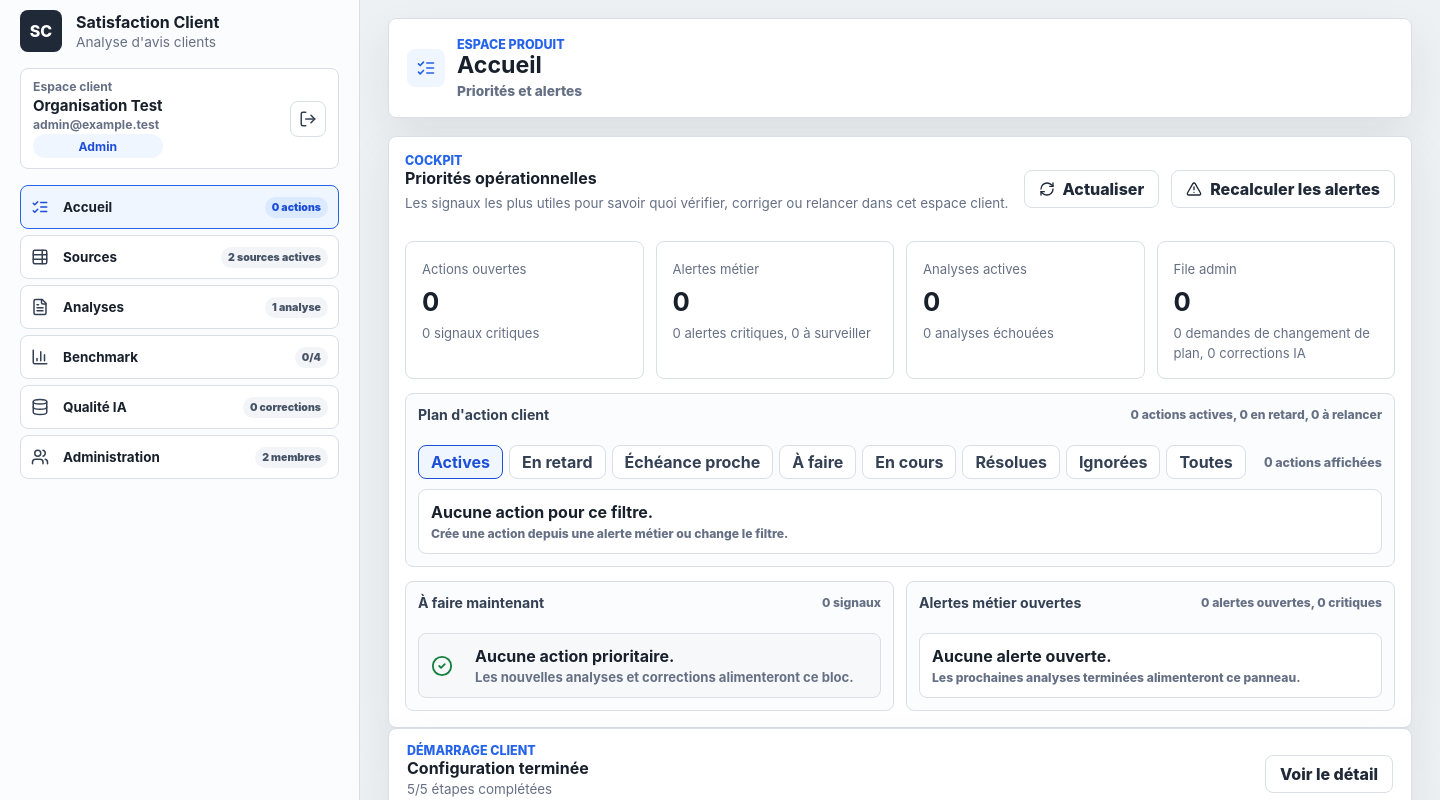
it: App authentication and permissions › shows completed onboarding compactly, then opens and closes its actions
Check: the text "Configuration terminée" is shown, box x1=407 y1=758 x2=589 y2=778
Check: the text "5/5 étapes complétées" is shown, box x1=407 y1=781 x2=552 y2=797
Click the button "Voir le détail". click: (1329, 774)
box: x1=1265 y1=755 x2=1393 y2=793
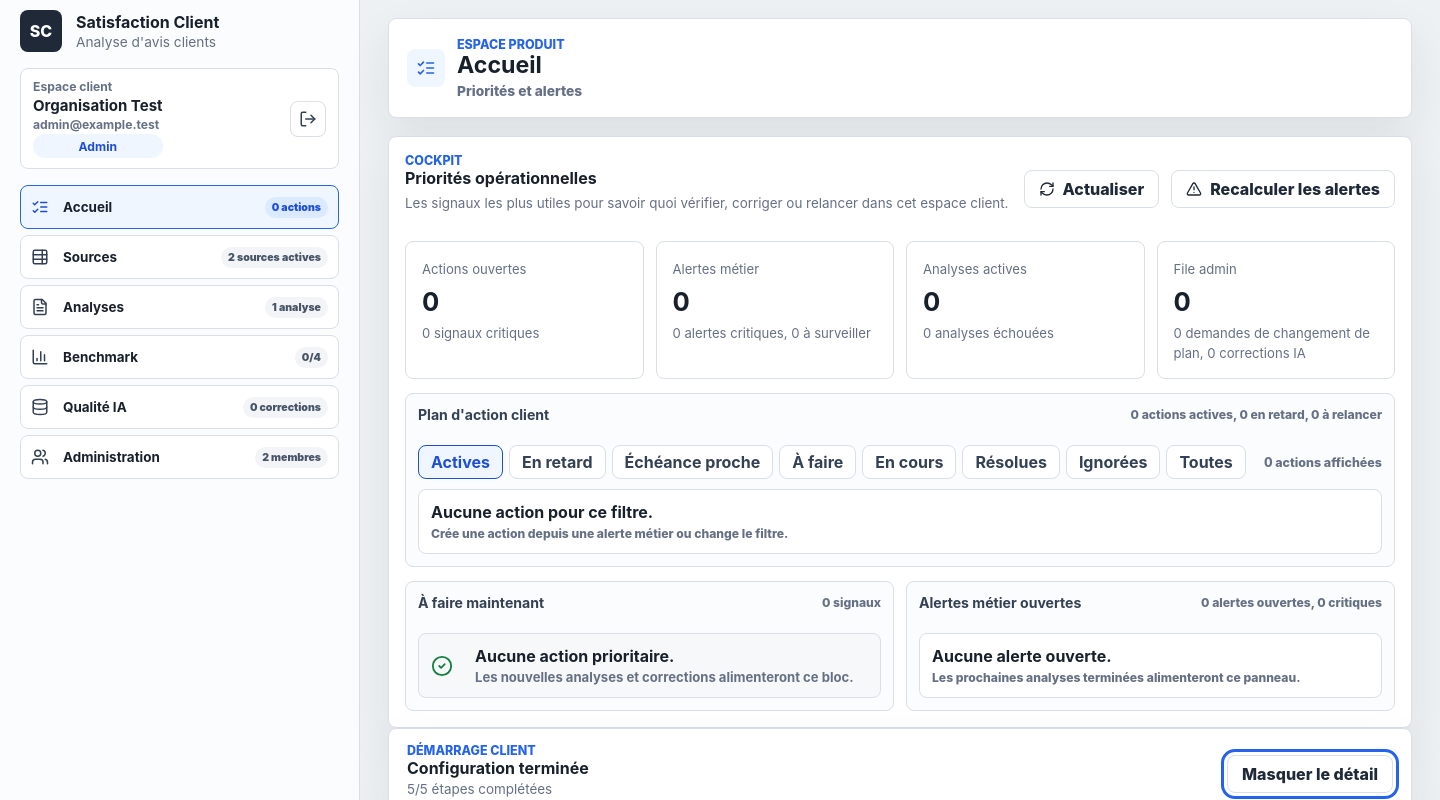
Check: the button "Masquer le détail" is expanded
Click the button "Masquer le détail". click: (1310, 774)
box: x1=1227 y1=755 x2=1393 y2=793
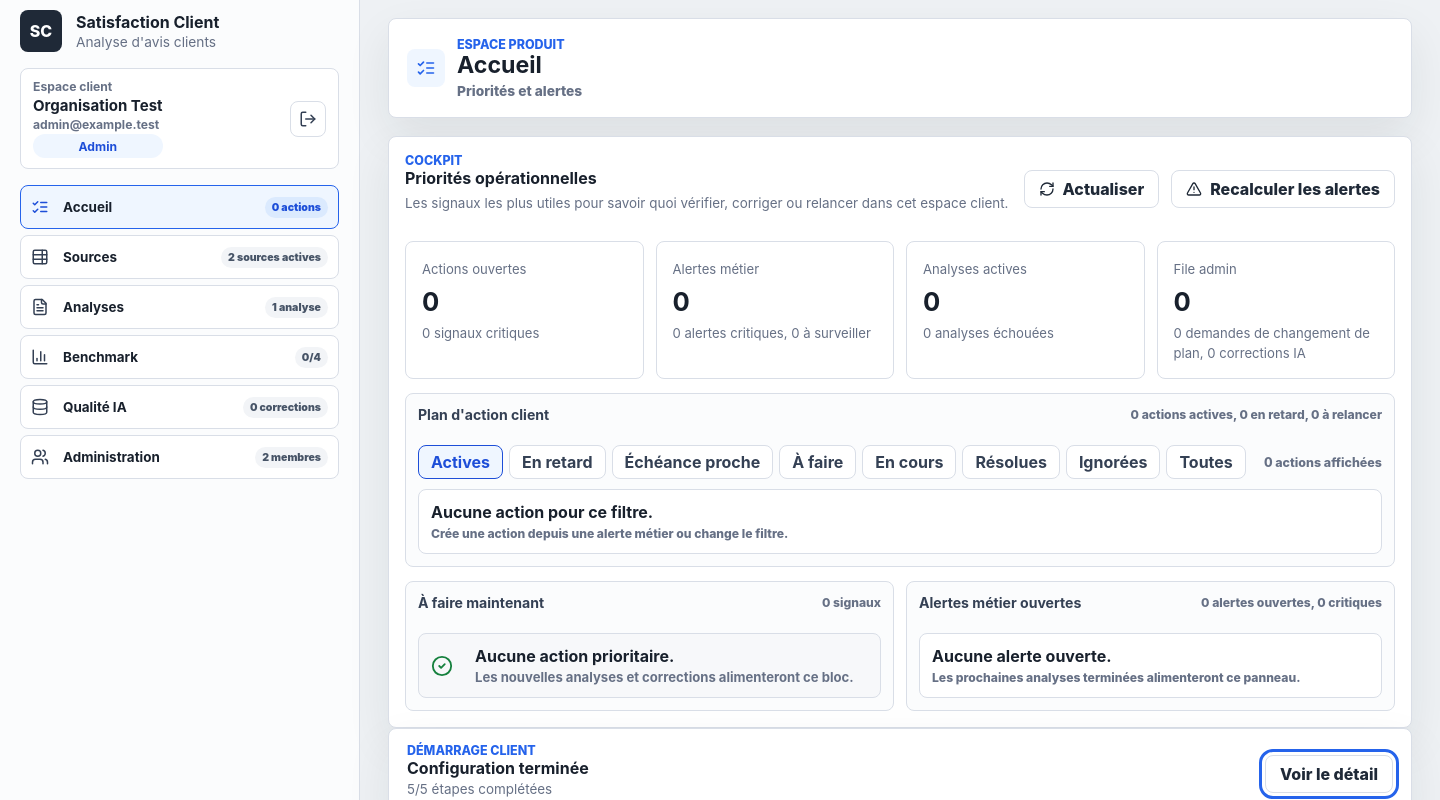
Check: the heading "Priorités opérationnelles" is shown, box x1=405 y1=168 x2=597 y2=188
Check: the button "Voir le détail" is collapsed, box x1=1265 y1=755 x2=1393 y2=793
Press Enter
(page scrolled)
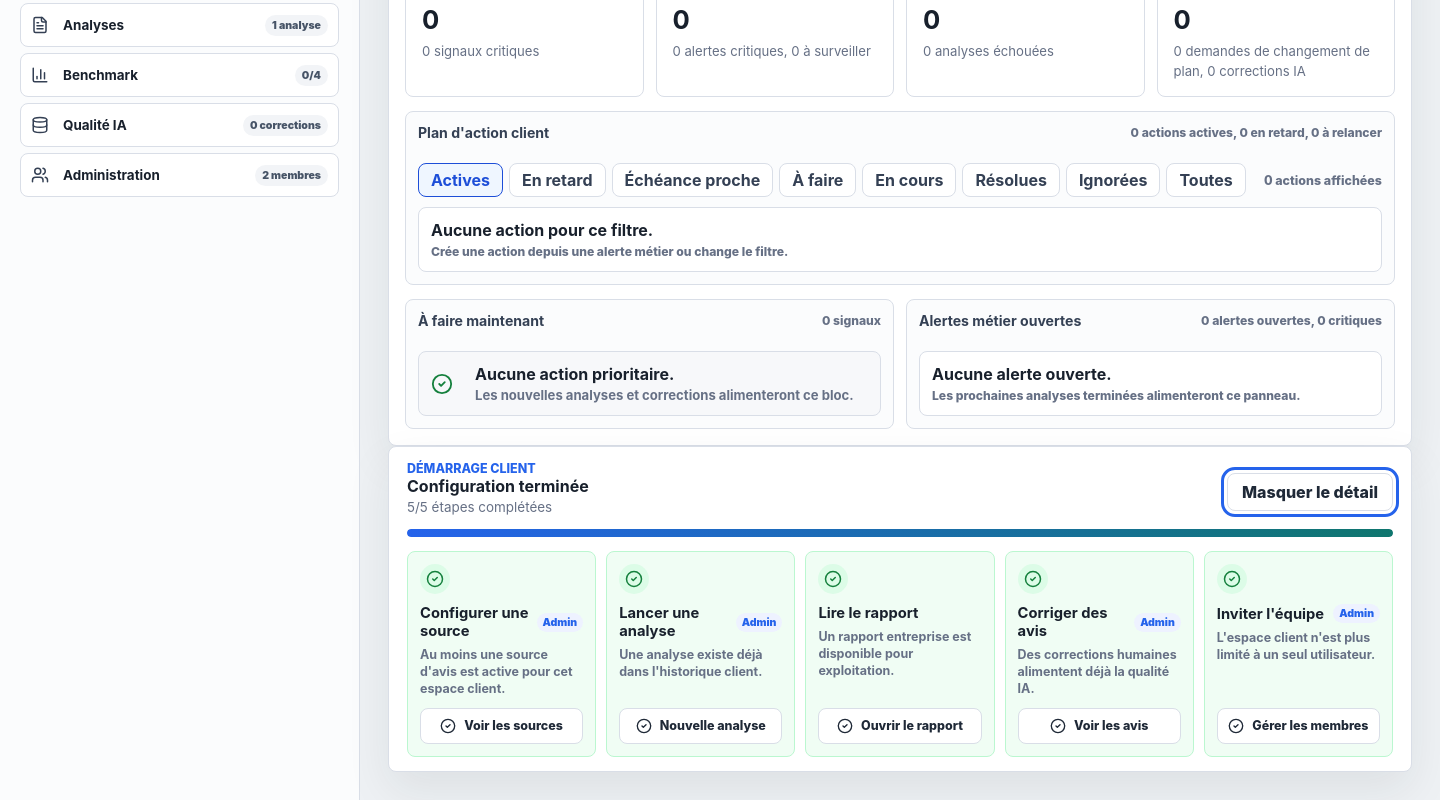
Click the button "Voir les sources". click: (502, 726)
box: x1=420 y1=708 x2=583 y2=744
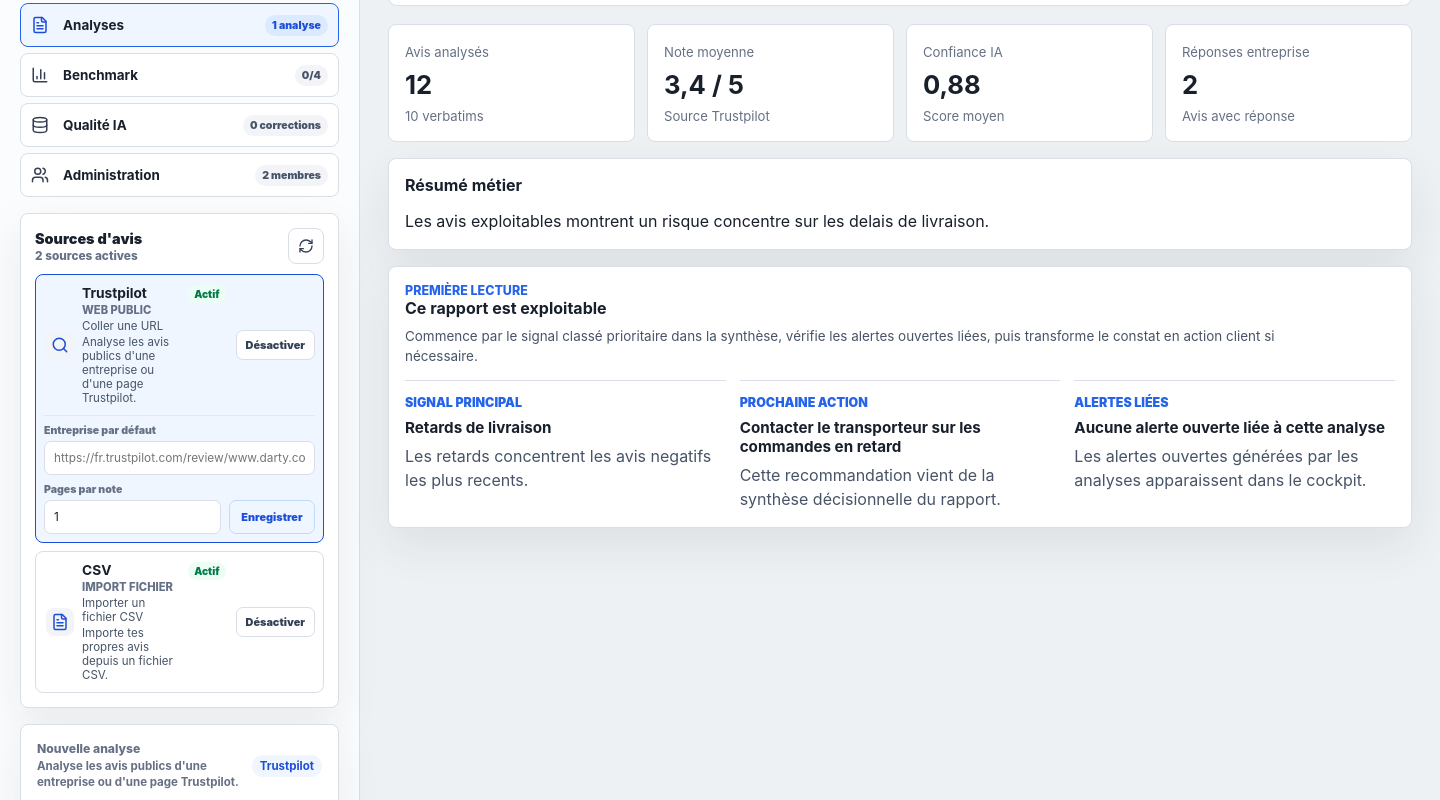
Check: the element with id "review_sources" is shown, box x1=20 y1=213 x2=339 y2=708
